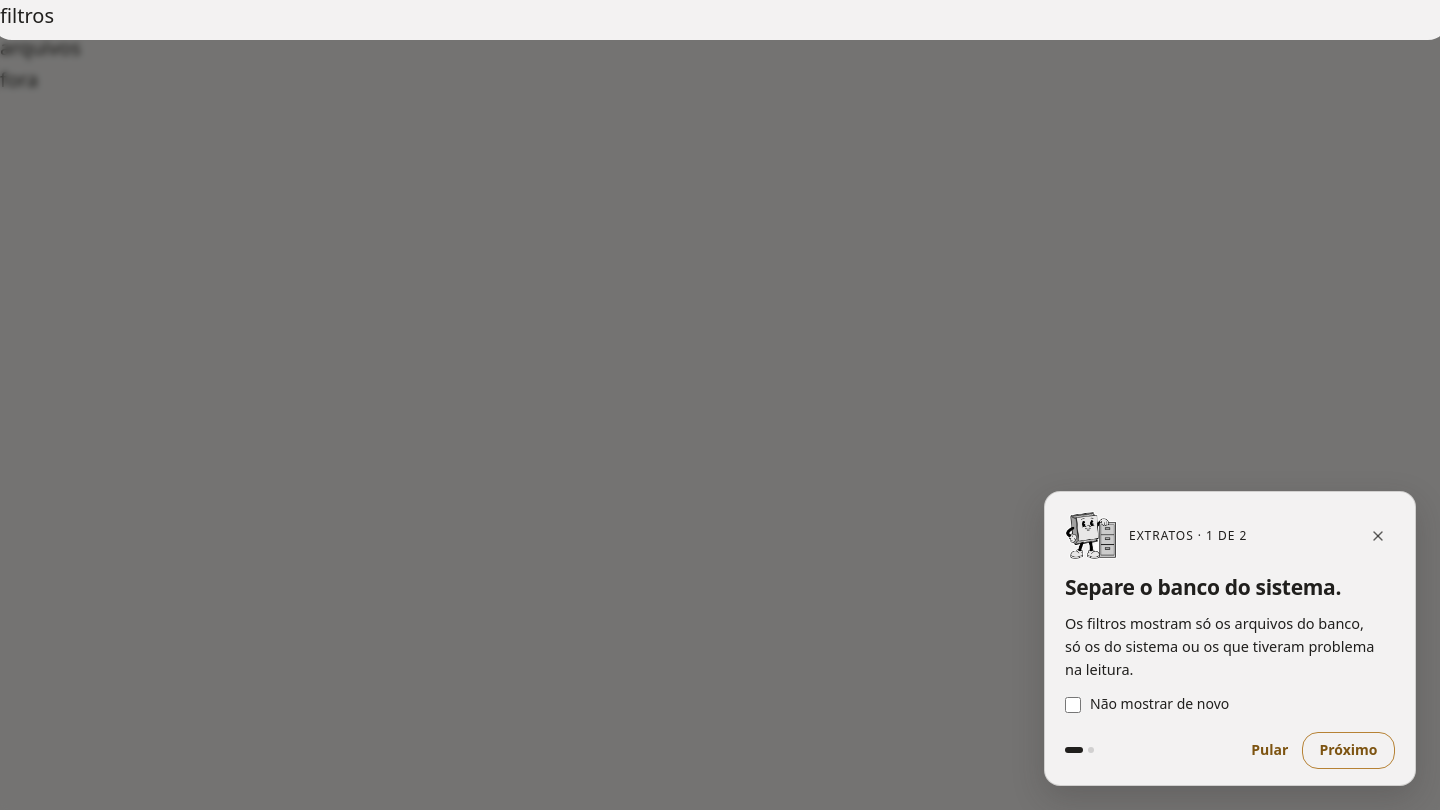
Tutorial › só entram os passos do que está na tela, e o destaque anda com eles
Expected: the dialog is shown, [1044,491,1416,786]
Expected: the text "Extratos · 1 de 2" is shown, [1129,526,1247,545]
Click the button "Próximo": x=1348, y=750 [1302,732,1395,769]
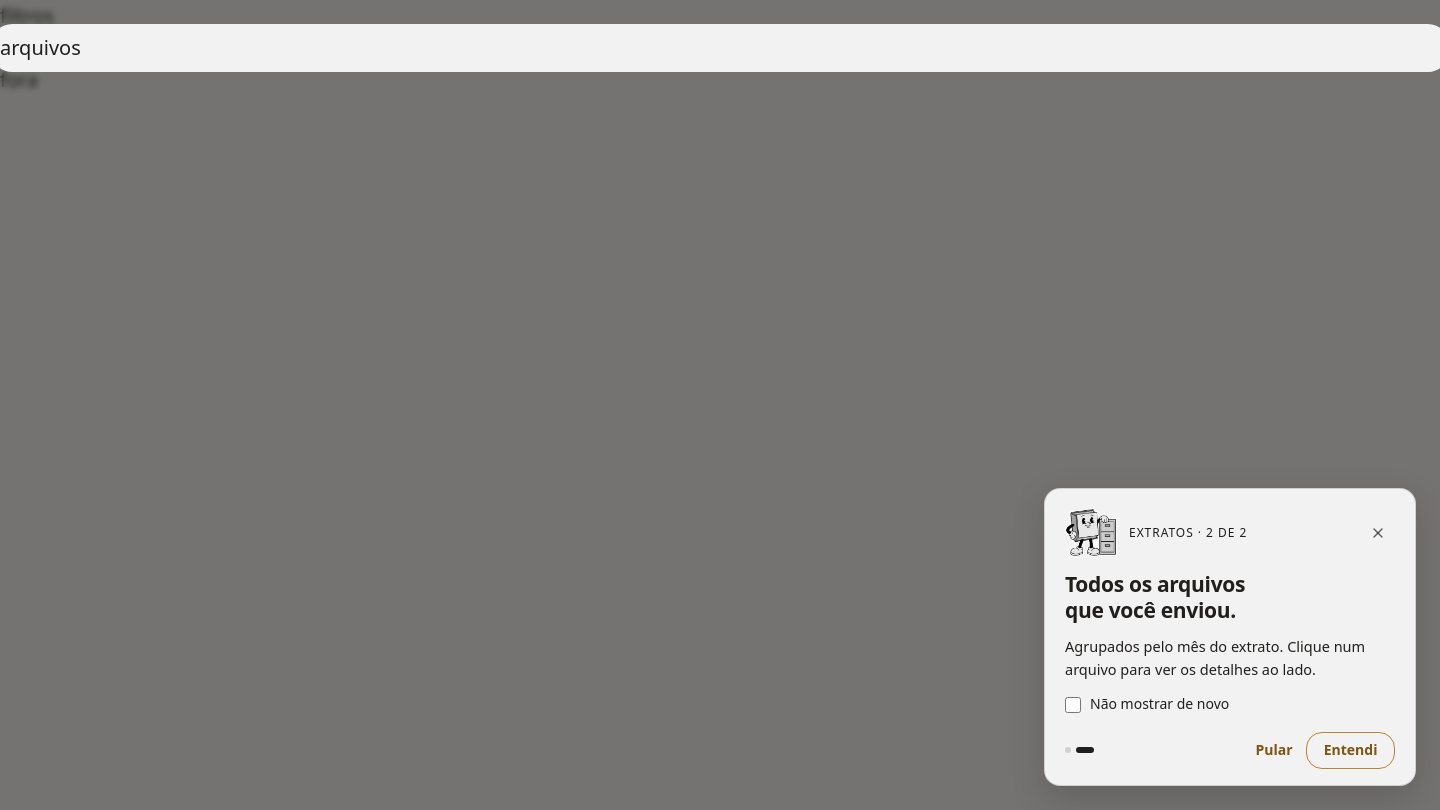
Expected: the dialog "Todos os arquivos que você enviou." is shown, [1044,488,1416,786]
Expected: the text "Extratos · 2 de 2" is shown, [1129,523,1247,542]
